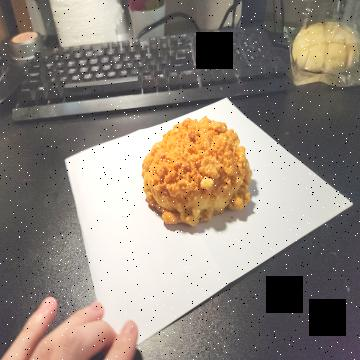soboru_bread: (139, 116, 251, 226)
